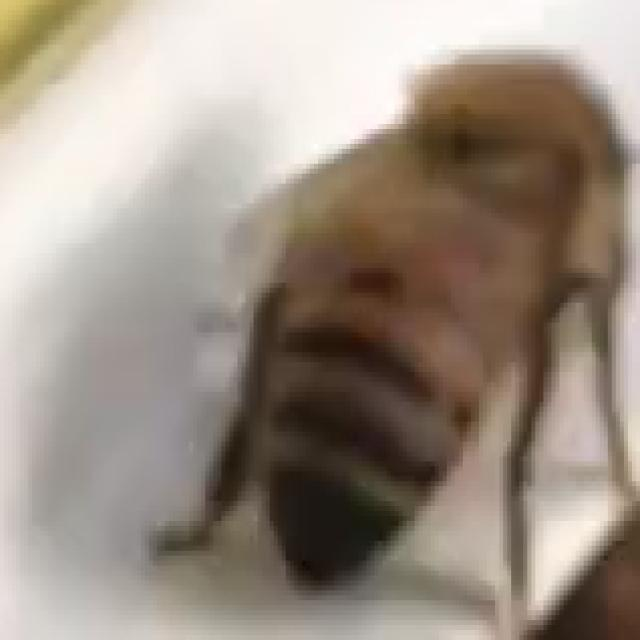honeybee: (143, 42, 640, 640)
